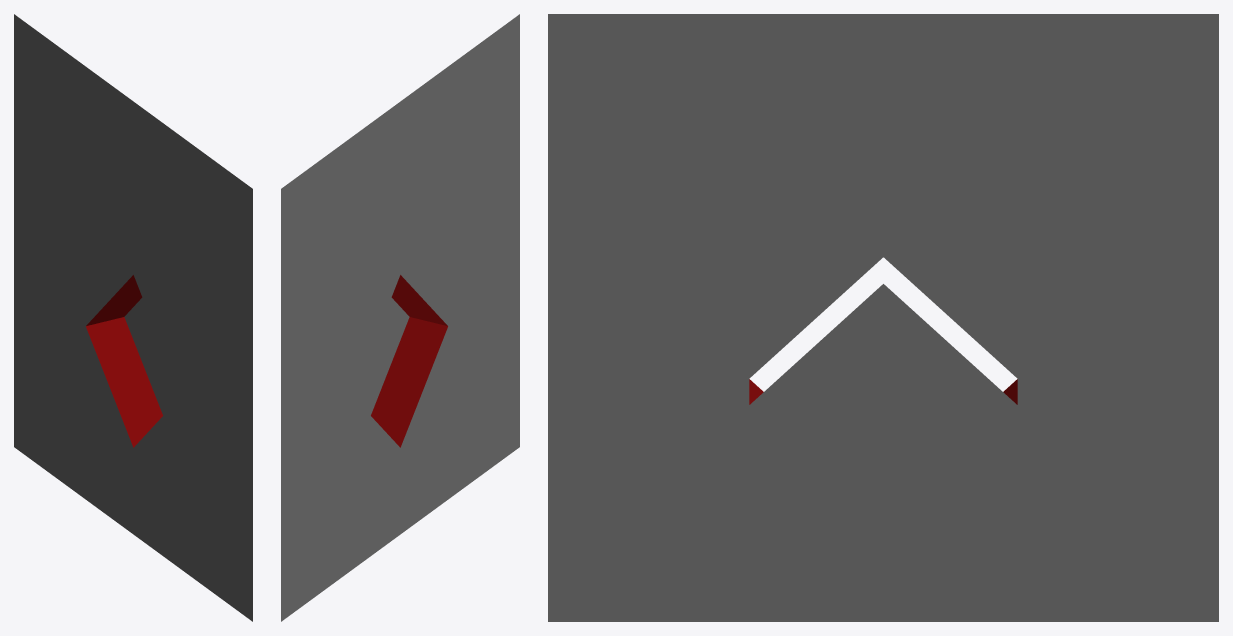
File: mouth.obj
3 views of the same model, side by side, from view 1: azimuth 30°, elevation 25°; view 2: azimuth 150°, elevation 25°; view 3: azimuth 270°, elevation 25° (orthographic). The views are drawn at different scales.
Visible parts, largest first — view 1: pPlane1; view 2: pPlane1; view 3: pPlane1.
Part boxes in pixels (x1=…): pPlane1: x1=14, y1=14, x2=252, y2=621; pPlane1: x1=281, y1=14, x2=519, y2=621; pPlane1: x1=548, y1=14, x2=1218, y2=621.
Size of the model in its own units: 1.21 by 12.96 by 12.96.
